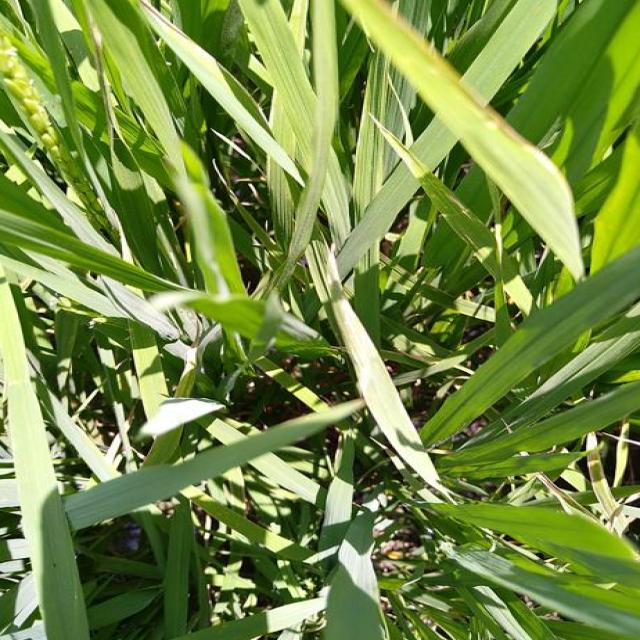Leaf Streak: (336, 0, 582, 283)
